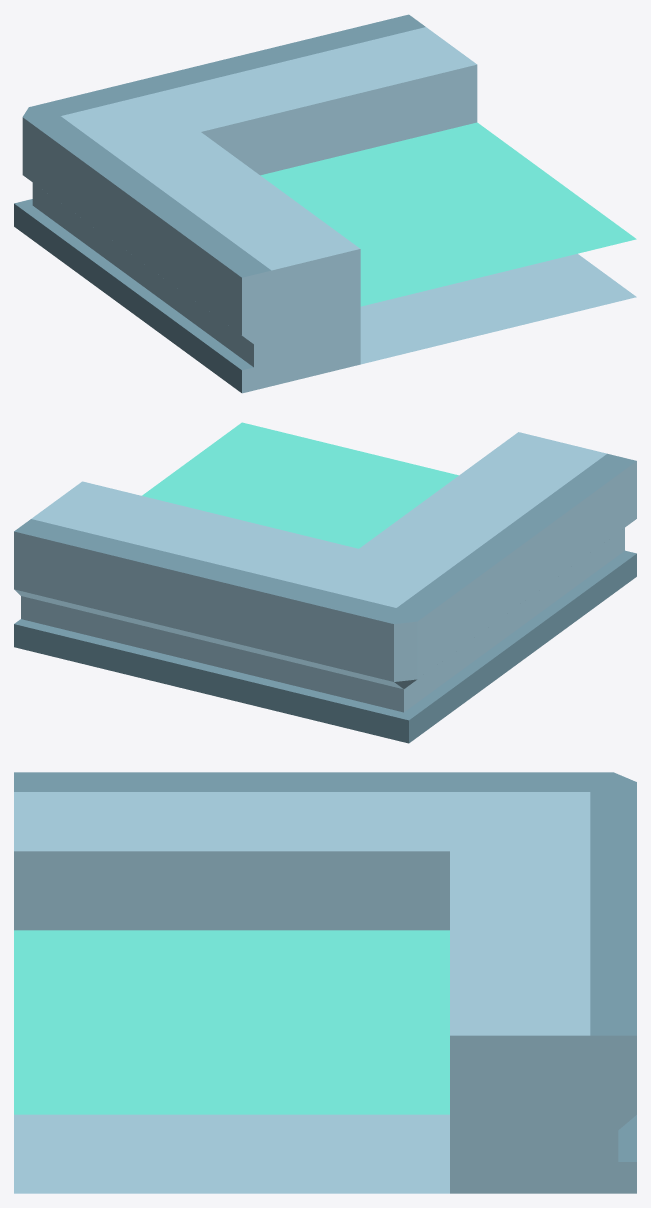
File: fountainCorner.obj
3 views of the same model, one above another, from view 1: azimuth 30°, elevation 25°; view 2: azimuth 150°, elevation 25°; view 3: azimuth 270°, elevation 25° (orthographic). The views are drawn at different scales.
Visible parts, largest first — view 1: fountainCorner; view 2: fountainCorner; view 3: fountainCorner.
Boxes of the visible parts, box(x1,y1,x2,y2) form: fountainCorner: box(14, 14, 636, 393); fountainCorner: box(14, 422, 636, 743); fountainCorner: box(14, 772, 636, 1193).
Bounding box in the file's own units: 1 × 0.28 × 1.
